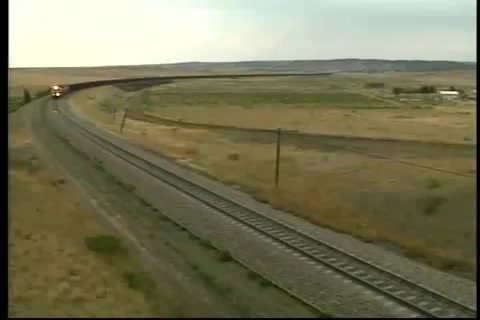train: (51, 83, 78, 99)
